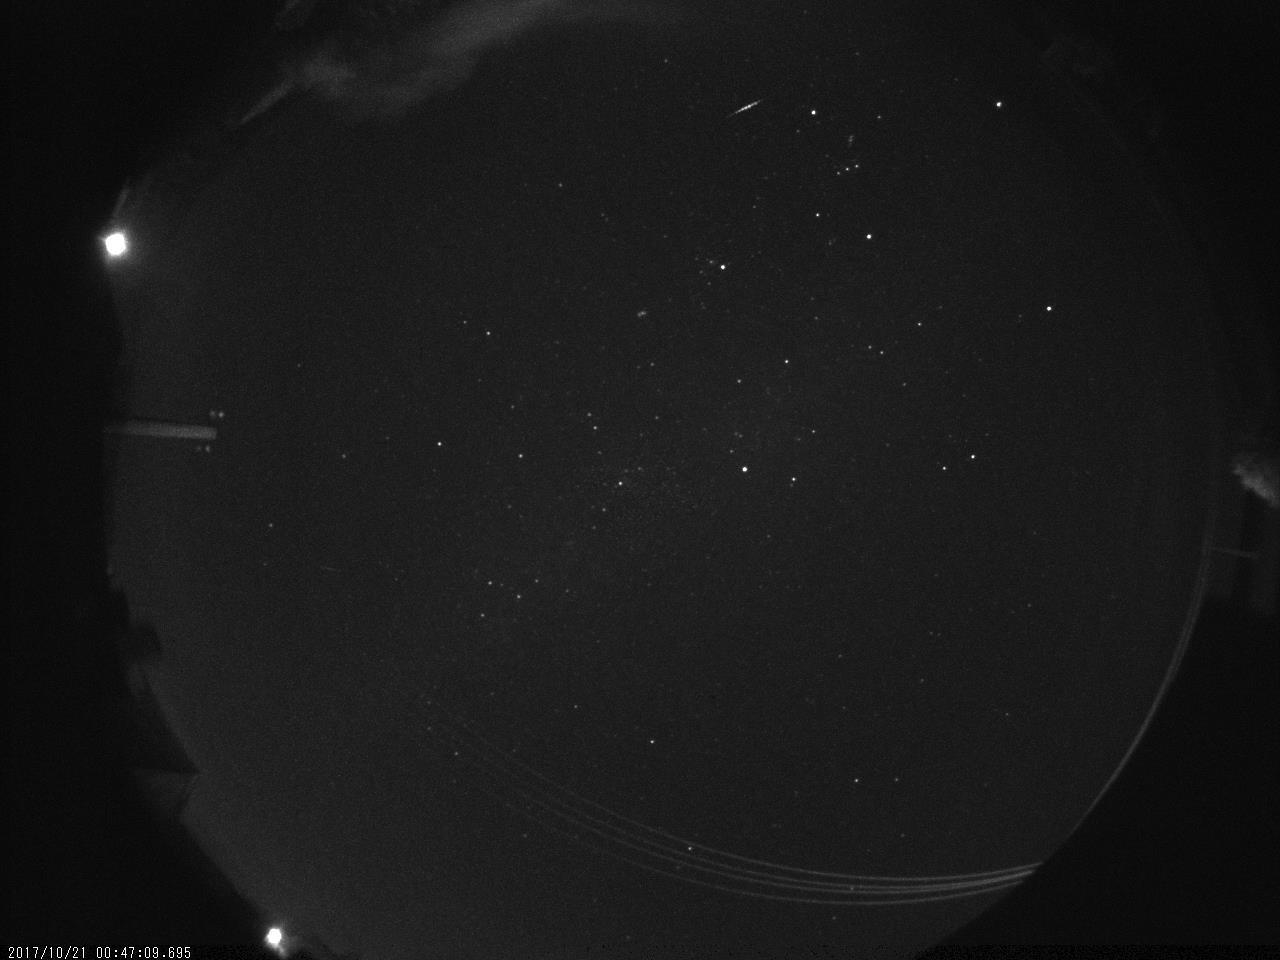Meteor: (724, 86, 774, 128)
